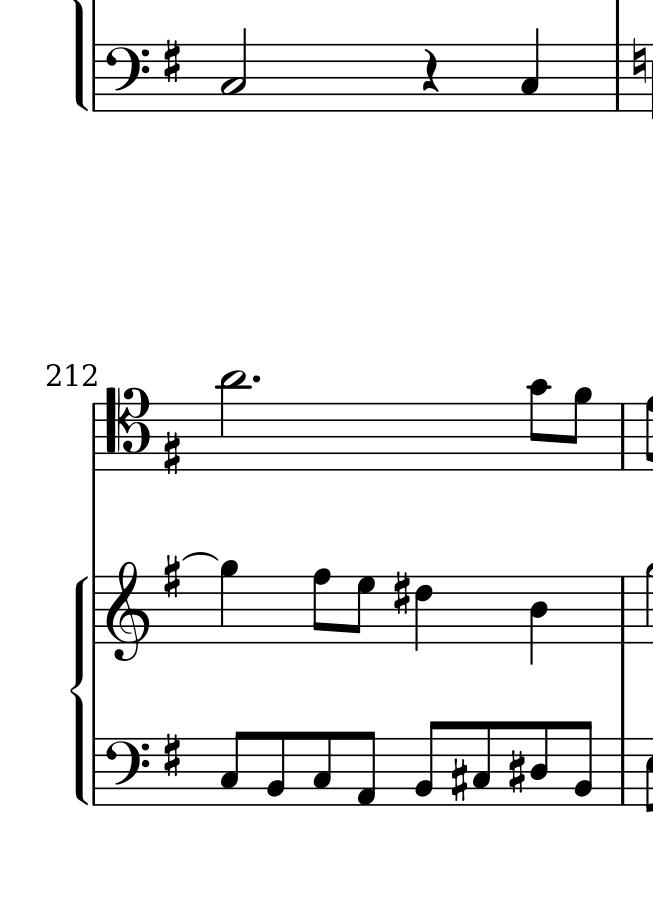1: (65, 363, 78, 388)
2: (45, 363, 63, 388), (81, 364, 98, 387)
2_11: (216, 369, 248, 471)
2_3: (219, 25, 248, 115)
4_3: (520, 25, 542, 113)
4_4: (528, 573, 550, 667)
4_6: (414, 575, 434, 650)
4_9: (217, 560, 238, 646)
8_1: (356, 730, 379, 807)
8_10: (527, 378, 551, 471)
8_2: (415, 720, 448, 808), (572, 720, 596, 809), (267, 728, 289, 807)
8_3: (472, 720, 497, 807), (220, 730, 247, 806), (311, 731, 333, 808)
8_4: (528, 719, 553, 808)
8_7: (350, 574, 375, 645)
8_8: (311, 568, 332, 645)
8_9: (565, 386, 593, 472)
Brace: (68, 576, 92, 806)
Cclef: (104, 386, 151, 472)
Fclef: (97, 723, 151, 797), (104, 43, 150, 113)
Gclef: (105, 561, 150, 659)
Natural: (629, 34, 649, 85)
Rests4: (421, 46, 442, 92)
Sharp: (160, 724, 183, 784), (447, 756, 470, 805), (163, 431, 182, 478), (163, 553, 182, 600), (164, 39, 182, 87), (393, 567, 411, 615), (509, 748, 525, 795)
Single_barline: (612, 576, 634, 646), (612, 738, 634, 805), (86, 44, 106, 112), (607, 43, 627, 111), (85, 403, 105, 471), (613, 402, 632, 469), (88, 738, 103, 806), (89, 576, 103, 644)
Slur: (180, 551, 217, 564)
dot: (249, 372, 264, 387)
